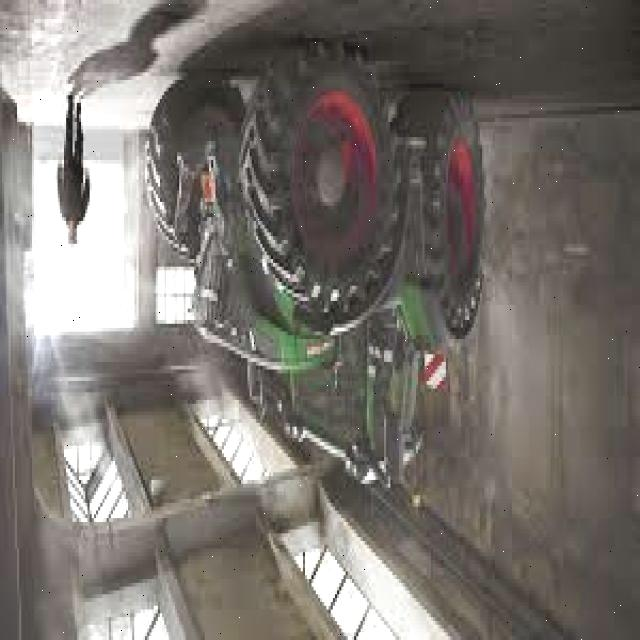Tratores - v5 YOLO V8L 2024-11-13: (145, 40, 486, 488)
